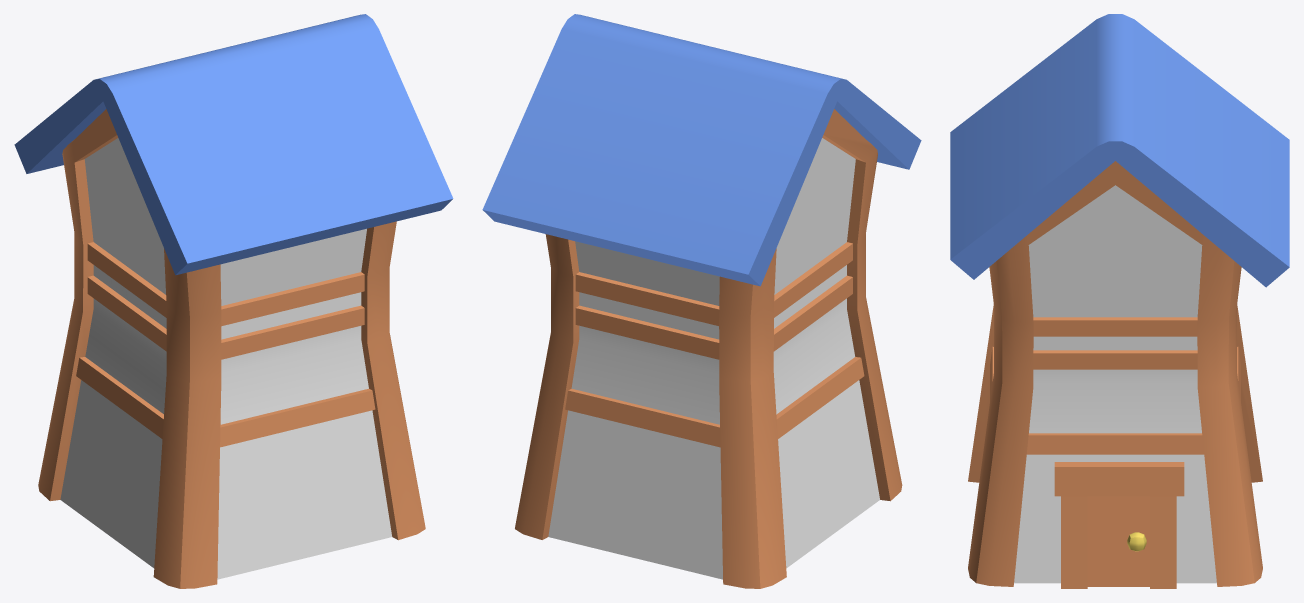
Rendered from Windmill.fbx.
3 renders of one model, left to right at view 1: azimuth 30°, elevation 25°; view 2: azimuth 150°, elevation 25°; view 3: azimuth 270°, elevation 25°, orthographic.
Parts seen in each view (by area): view 1: Windmill; view 2: Windmill; view 3: Windmill.
Boxes of the visible parts, x1,y1,x2,y2 form: Windmill: (14, 14, 453, 588); Windmill: (482, 14, 921, 588); Windmill: (950, 14, 1289, 588).
Bounding box in the file's own units: 300 × 492 × 337.
